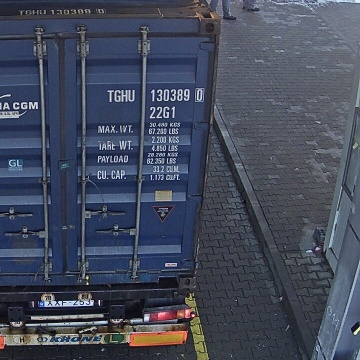serial_id: (107, 89, 203, 101)
